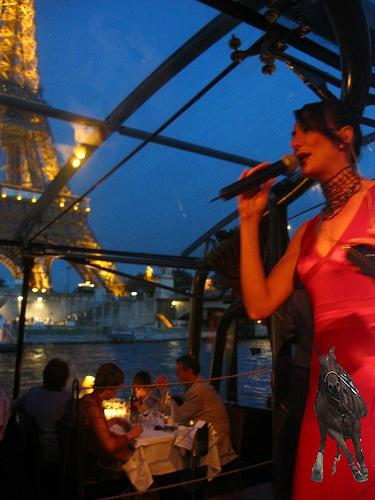tampered: (312, 347, 368, 482)
